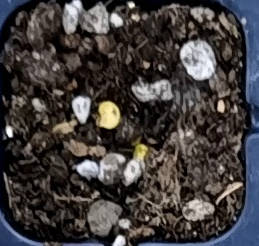pepper seed: (57, 62, 209, 225), (37, 36, 157, 166)
